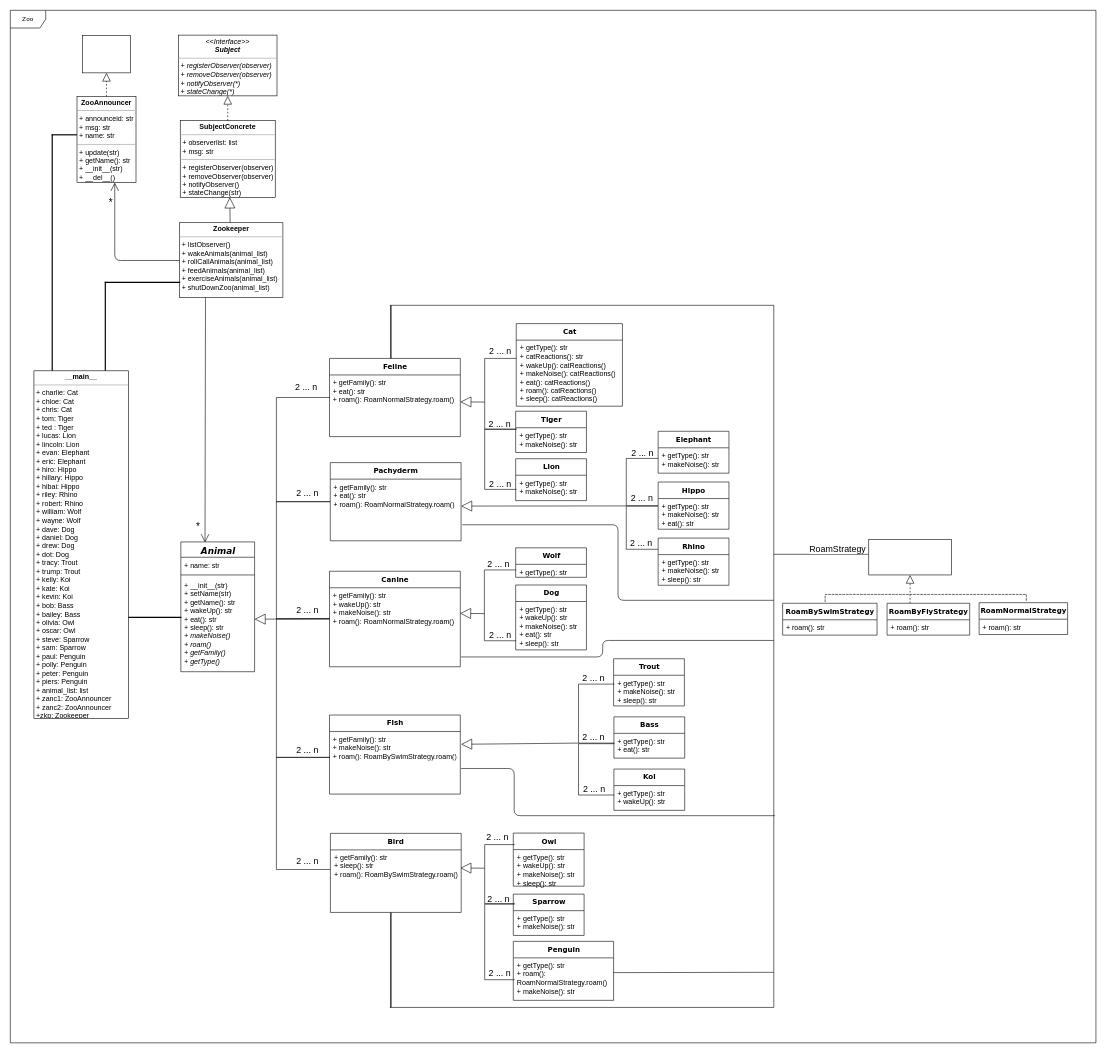
This 1106x1053 diagram has some shape labels left out. Here are the shapes that lost their labels. From the top down, the centre of each, then its label:
At point (106, 54): "<<Interface>> Observer + update()".
At point (909, 557): "<<Interface>> RoamStrategyAbstract + roam()".
